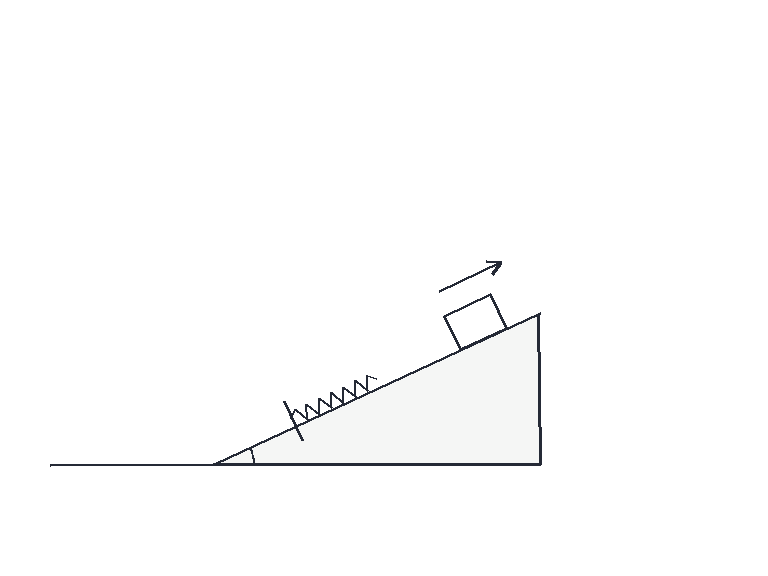block: (442, 292, 508, 351)
ramp: (212, 310, 541, 466)
spring: (290, 373, 378, 421)
